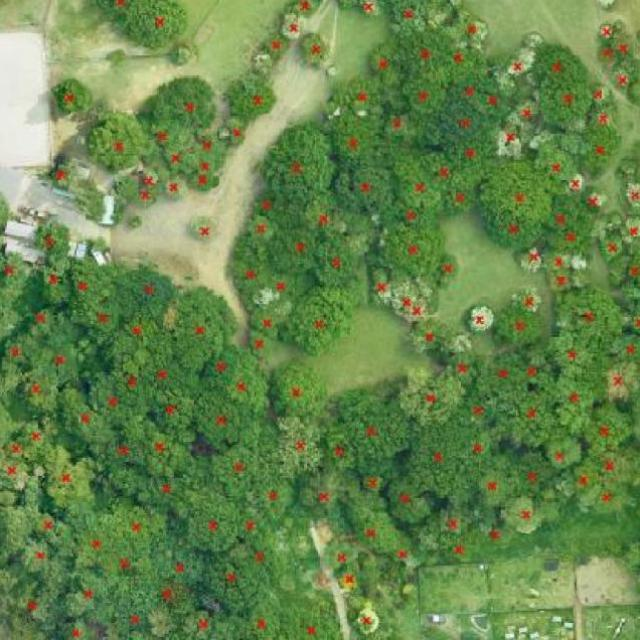tree: (269, 279, 364, 365), (167, 282, 246, 382), (255, 122, 338, 216), (334, 382, 409, 472), (546, 280, 633, 353), (471, 152, 557, 224), (396, 414, 462, 501), (194, 546, 269, 615), (372, 219, 454, 282), (139, 73, 221, 135), (392, 360, 467, 427), (202, 437, 271, 508), (132, 409, 196, 484), (220, 229, 272, 319), (546, 356, 604, 436), (53, 376, 117, 448), (41, 448, 108, 516), (264, 355, 330, 424), (306, 226, 375, 291), (326, 152, 400, 212), (269, 409, 333, 478), (378, 462, 442, 530), (124, 0, 196, 60), (476, 201, 550, 259), (191, 385, 261, 446), (338, 500, 407, 561), (105, 497, 170, 561), (80, 108, 145, 171), (527, 33, 594, 91), (182, 485, 239, 551), (268, 215, 323, 283), (503, 389, 564, 450), (292, 460, 350, 523), (532, 76, 596, 132), (0, 583, 62, 640), (437, 91, 493, 154), (125, 477, 204, 521), (97, 588, 163, 640), (222, 69, 282, 126), (576, 394, 632, 455), (66, 260, 127, 316), (60, 561, 115, 622), (322, 118, 389, 167), (504, 446, 563, 501), (222, 342, 267, 414), (417, 495, 477, 547), (370, 192, 451, 230), (123, 263, 182, 315), (473, 349, 527, 405), (320, 74, 388, 118), (190, 337, 239, 398), (392, 75, 450, 124), (93, 432, 156, 477), (404, 23, 448, 87), (135, 104, 183, 162), (499, 497, 561, 541), (496, 298, 549, 349), (580, 474, 637, 521), (539, 214, 598, 259), (584, 114, 624, 180), (30, 213, 78, 268), (236, 495, 279, 556), (583, 442, 640, 488), (28, 501, 77, 553), (279, 602, 346, 640), (151, 531, 198, 585), (543, 328, 598, 374), (436, 135, 496, 177), (260, 470, 304, 527), (115, 311, 166, 360), (0, 327, 43, 384), (532, 139, 575, 195), (532, 194, 588, 236), (155, 388, 203, 437), (442, 46, 493, 92), (470, 456, 511, 513), (535, 431, 590, 473), (359, 36, 403, 88), (406, 318, 459, 360), (28, 216, 74, 264), (40, 339, 90, 383), (91, 0, 157, 33), (320, 417, 357, 475), (248, 583, 285, 640), (46, 76, 95, 119), (296, 29, 338, 79), (455, 418, 501, 463), (442, 343, 485, 391), (497, 39, 544, 82), (150, 568, 192, 616), (30, 264, 71, 313), (387, 540, 439, 578), (410, 143, 457, 185), (14, 531, 55, 579), (509, 237, 553, 281), (385, 0, 438, 36), (79, 293, 122, 337), (397, 293, 451, 328), (68, 527, 113, 569), (453, 386, 500, 426), (317, 538, 366, 576), (611, 534, 640, 597), (433, 532, 490, 564), (178, 598, 221, 640), (19, 376, 62, 418), (37, 151, 81, 192), (455, 4, 491, 53), (376, 112, 426, 147), (516, 345, 552, 392), (433, 237, 462, 295), (559, 464, 601, 504), (240, 302, 287, 337), (606, 326, 640, 373), (182, 210, 224, 248), (20, 412, 62, 450), (239, 548, 288, 580), (601, 359, 637, 401), (463, 297, 498, 340), (593, 225, 627, 269), (248, 185, 284, 226), (358, 461, 397, 498), (242, 212, 276, 254), (50, 615, 107, 640), (445, 185, 481, 222), (0, 437, 36, 473), (266, 264, 301, 301), (240, 326, 274, 363), (554, 128, 592, 161), (398, 275, 428, 316), (496, 122, 528, 159), (131, 162, 172, 190), (366, 266, 392, 310), (182, 168, 224, 195), (0, 249, 27, 291), (514, 283, 548, 316), (0, 462, 33, 496), (479, 522, 514, 554), (189, 150, 232, 176), (352, 603, 382, 640), (29, 303, 60, 338), (258, 30, 294, 60), (160, 169, 188, 207), (157, 143, 188, 177), (335, 566, 364, 602), (625, 377, 640, 446), (127, 187, 165, 214), (544, 268, 578, 296), (0, 189, 18, 241), (580, 186, 614, 213), (188, 129, 232, 149), (618, 176, 640, 215), (616, 28, 635, 72), (226, 120, 252, 152), (540, 244, 574, 268), (562, 171, 590, 200), (288, 0, 326, 21), (279, 13, 306, 42), (352, 606, 382, 632), (620, 208, 640, 246), (514, 98, 542, 125), (591, 102, 620, 128), (584, 80, 614, 104), (592, 38, 616, 68), (625, 296, 640, 343), (626, 246, 640, 293), (608, 62, 633, 88), (362, 0, 383, 27), (595, 16, 616, 41), (333, 0, 361, 13), (592, 0, 626, 7)
